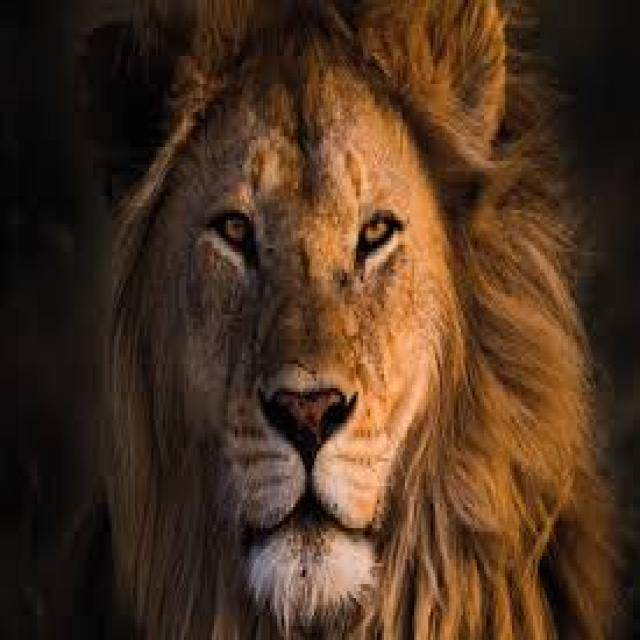Lion: (79, 0, 614, 637)
